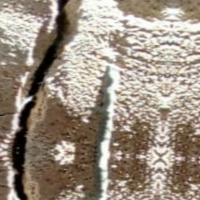crack: (2, 0, 99, 199)
